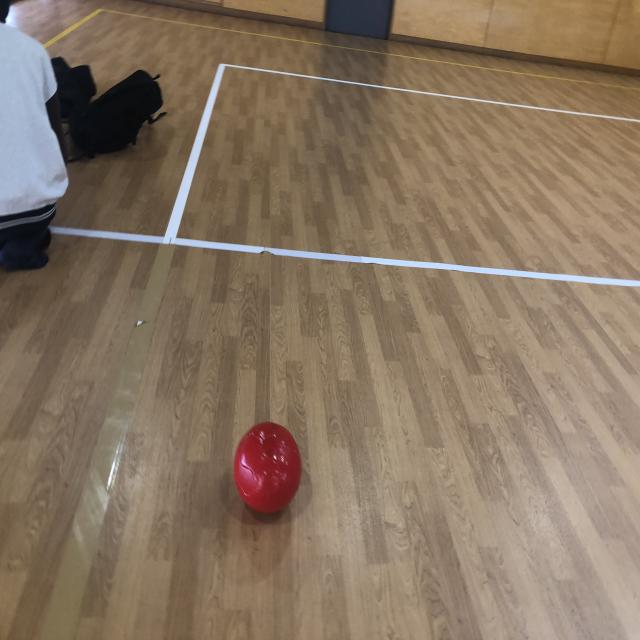red_ball: (235, 422, 302, 516)
